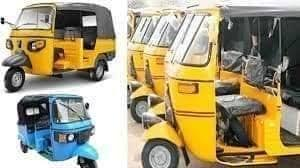keke: (134, 4, 298, 167), (3, 1, 120, 93)
